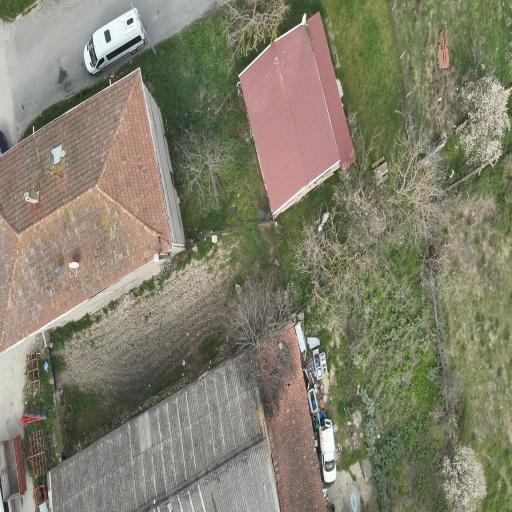car: (84, 9, 145, 75), (318, 419, 336, 483), (0, 131, 9, 155)
